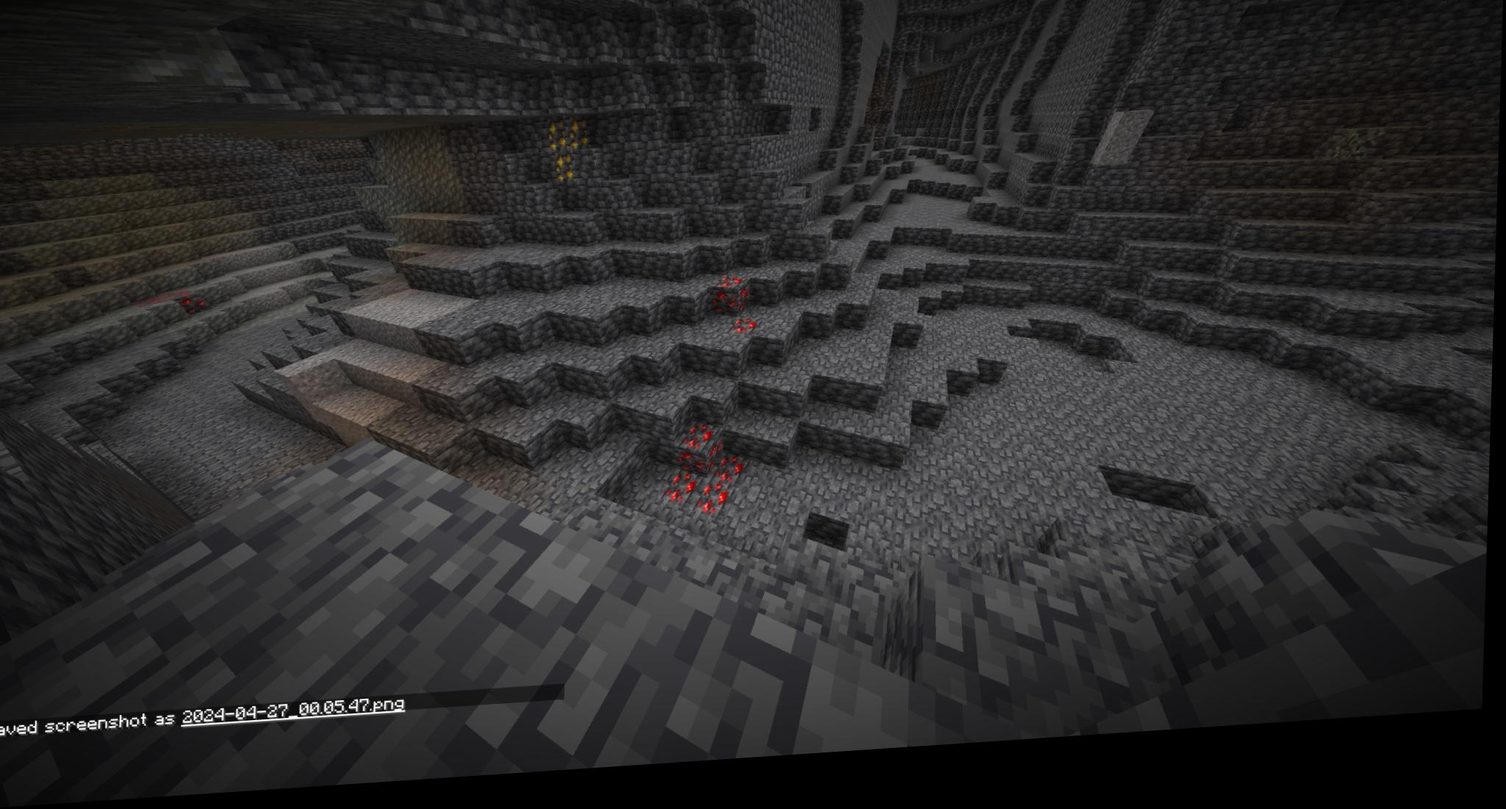gold ore: (546, 122, 593, 187)
redstone ore: (140, 291, 212, 316), (716, 285, 752, 323), (668, 481, 701, 514), (683, 431, 717, 463), (699, 496, 732, 528), (719, 466, 749, 498), (732, 331, 758, 346)
